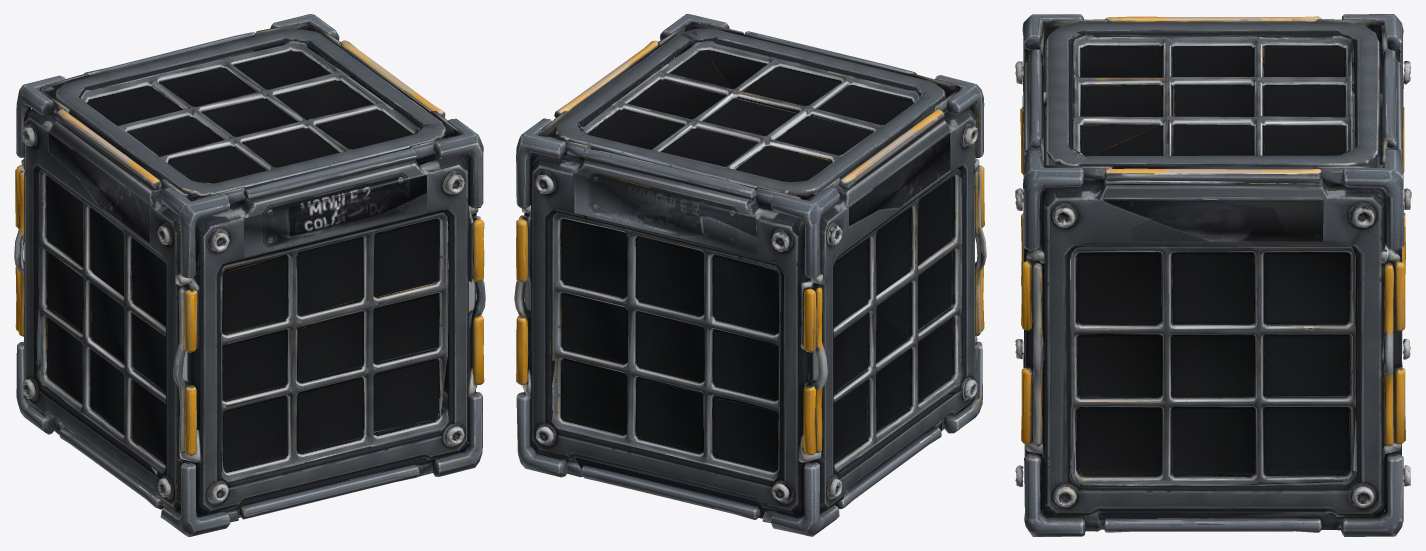
File: ColorGridBox.glb
The picture shows the model from 3 angles, left to right: view 1: azimuth 30°, elevation 25°; view 2: azimuth 150°, elevation 25°; view 3: azimuth 270°, elevation 25°; orthographic projection. The views are drawn at different scales.
Size of the model in its own units: 0.9863 by 1 by 0.9766.
1 material, 1 textured.
